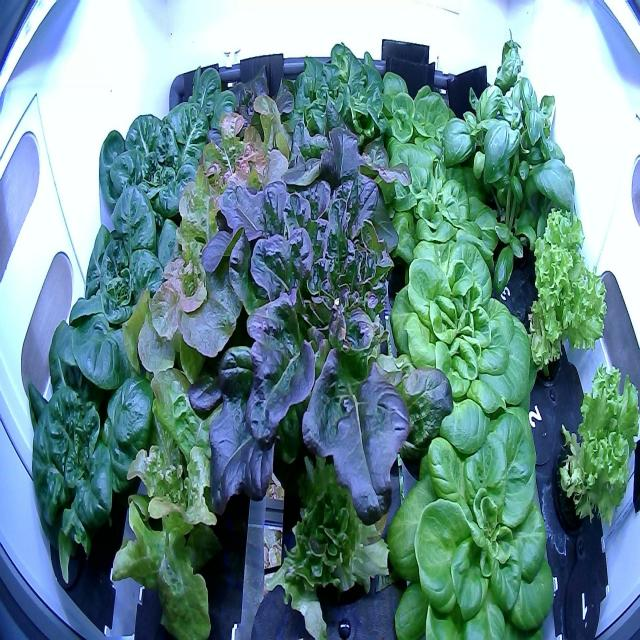young: (373, 390, 565, 639), (383, 224, 542, 429), (373, 139, 515, 281), (362, 63, 473, 178)
